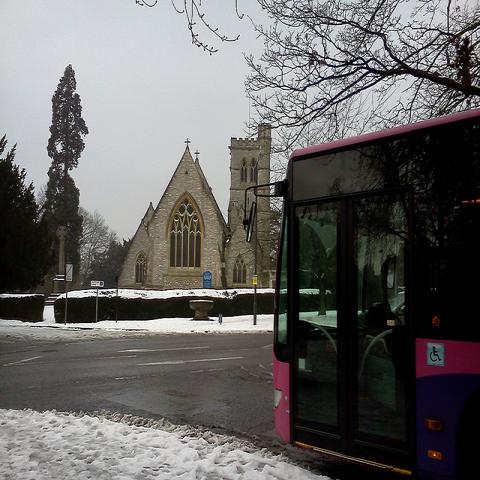bus: (242, 109, 480, 474)
